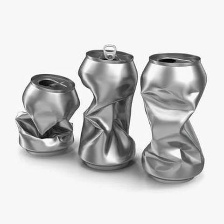can: (138, 51, 209, 184), (75, 45, 140, 173), (12, 72, 82, 159)
